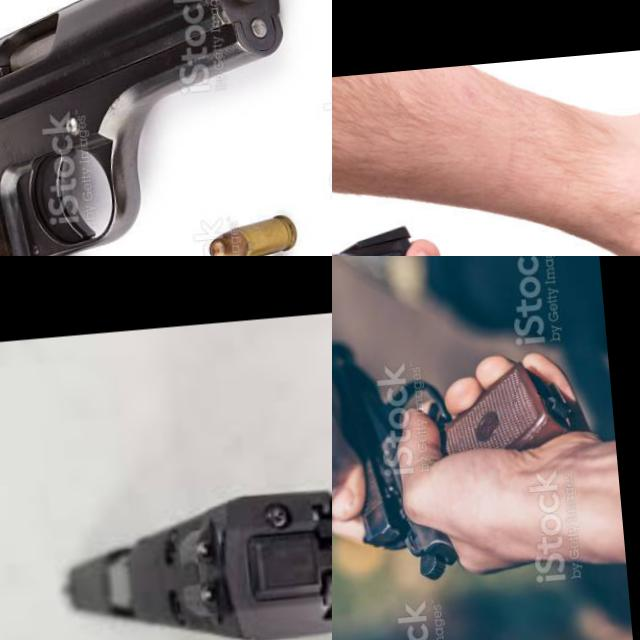handgun: (0, 0, 323, 256), (332, 317, 592, 592), (45, 469, 332, 640), (332, 195, 640, 256)
